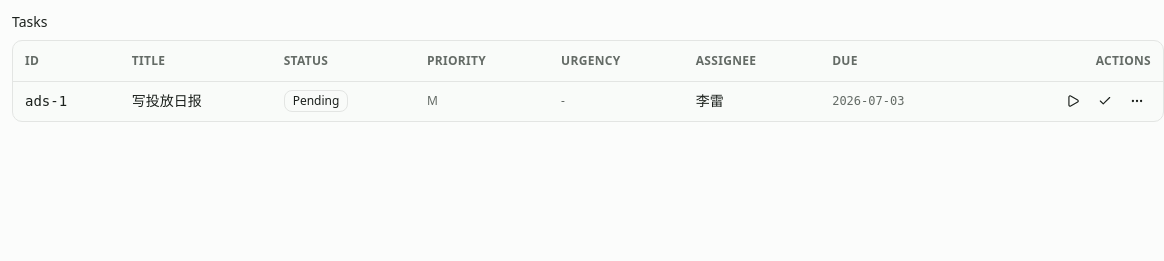
it: TaskTable › uses localized task action labels
Click the button named "More actions ads-1" at x=1137, y=101, box x1=1123 y1=87 x2=1151 y2=115
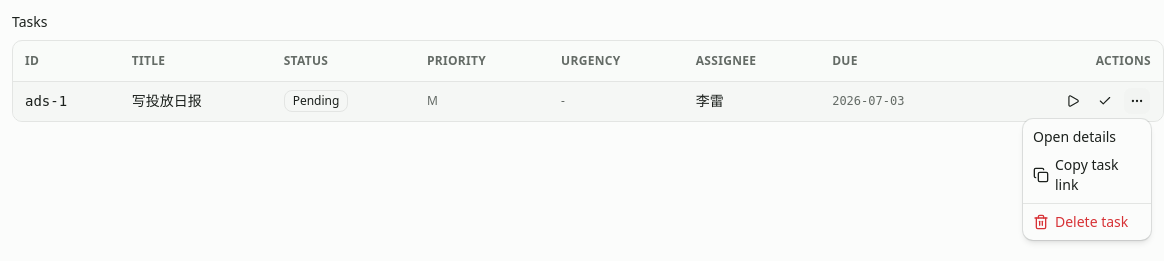
Expected: the menu item "Open details" is shown, x1=1033 y1=127 x2=1116 y2=146
Expected: the menu item "Copy task link" is shown, x1=1033 y1=155 x2=1118 y2=194
Expected: the menu item "Delete task" is shown, x1=1033 y1=212 x2=1128 y2=231
